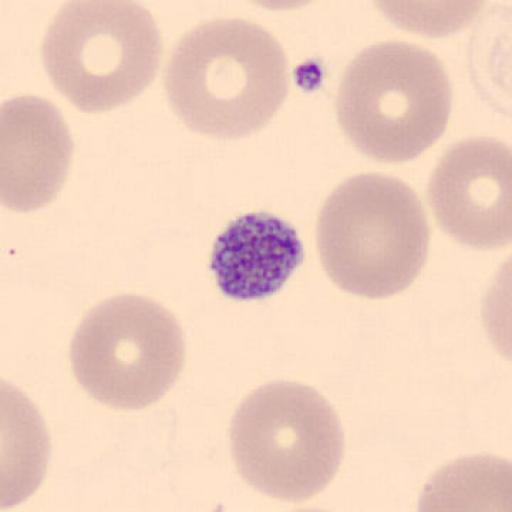Platelet: (204, 208, 309, 304)
RBC: (162, 14, 292, 141), (332, 38, 454, 168), (314, 170, 432, 304), (228, 378, 347, 506), (38, 0, 165, 116), (68, 290, 188, 412), (425, 135, 512, 251), (2, 92, 76, 214), (2, 379, 52, 511), (414, 451, 512, 512), (364, 0, 489, 39), (473, 1, 512, 119), (479, 255, 512, 364), (225, 0, 329, 11)
